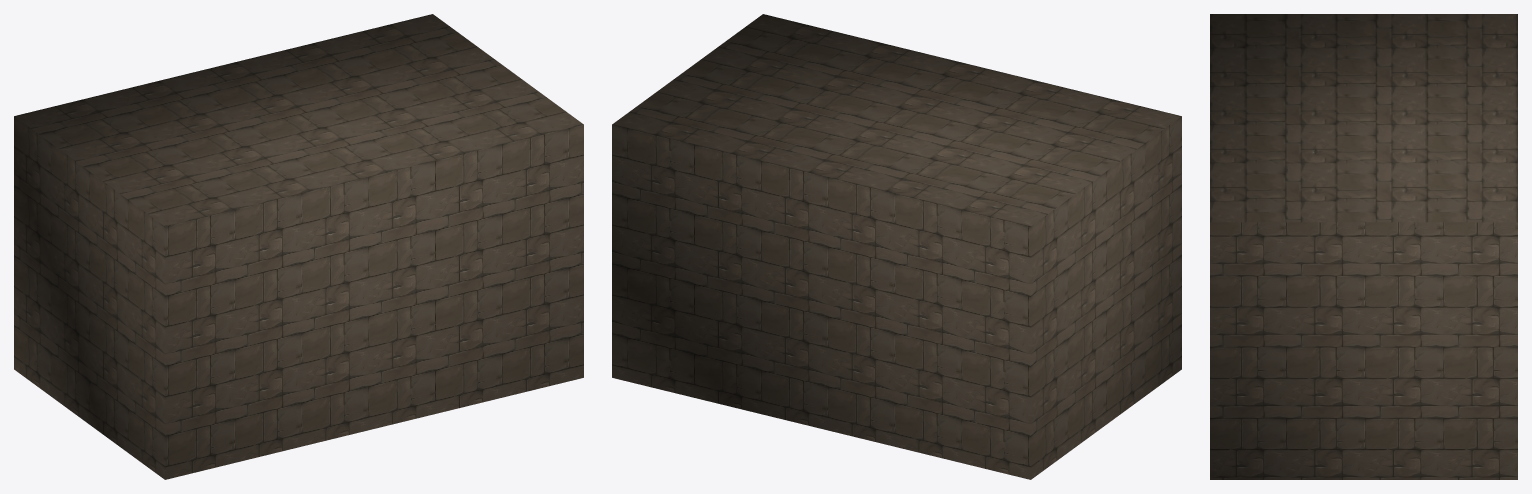
File: sn_longmai_baseframe_004.FBX
3 views of the same model, side by side, from view 1: azimuth 30°, elevation 25°; view 2: azimuth 150°, elevation 25°; view 3: azimuth 270°, elevation 25° (orthographic).
Visible parts, largest first — view 1: sn_longmai_baseframe_004; view 2: sn_longmai_baseframe_004; view 3: sn_longmai_baseframe_004.
Part boxes in pixels (box(x1,y1,x2,y2)): sn_longmai_baseframe_004: box(14, 14, 583, 479); sn_longmai_baseframe_004: box(612, 14, 1181, 479); sn_longmai_baseframe_004: box(1210, 14, 1517, 479).
Bounding box in the file's own units: 1731 × 1000 × 1082.
